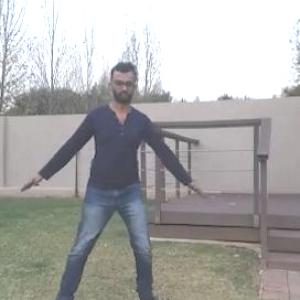land: (0, 56, 179, 299)
